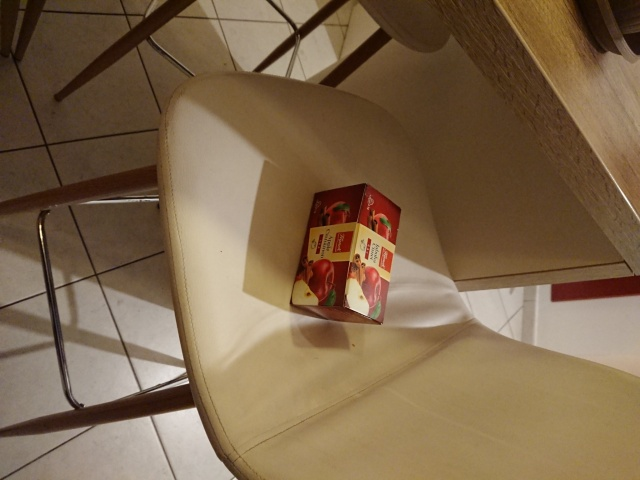Franck Apple Cinnamon Tea 60g: (286, 180, 404, 328)
